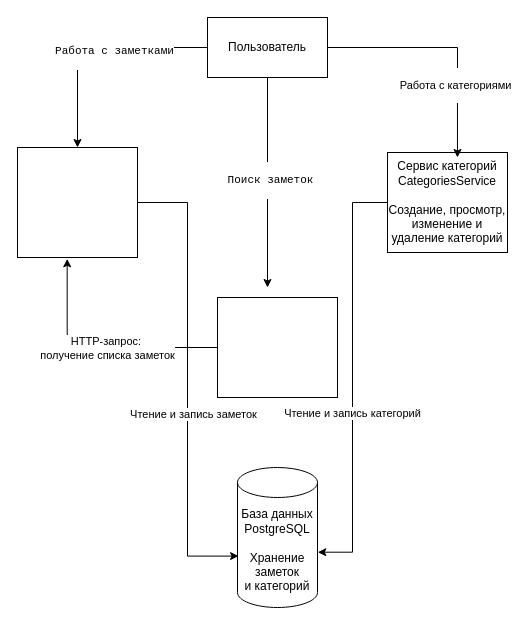
This 529x625 diagram has some shape labels left out. Here are the shapes that lost their labels. From the top down, the box of each, then its label:
(16, 146, 138, 258): Сервис заметок NotesService Создание, просмотр, изменение и удаление заметок
(216, 296, 338, 398): Сервис поиска SearchService Поиск заметок по названию и содержанию
